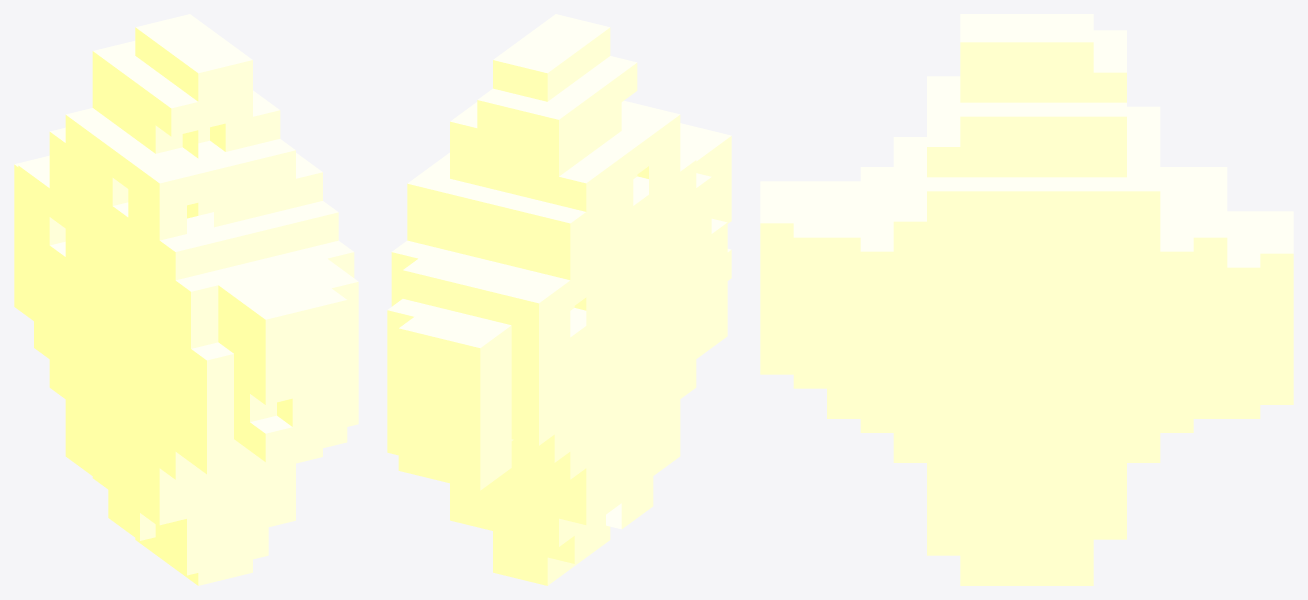
Rendered from yellow-star.gltf.
3 renders of one model, left to right at view 1: azimuth 30°, elevation 25°; view 2: azimuth 150°, elevation 25°; view 3: azimuth 270°, elevation 25°, orthographic. The views are drawn at different scales.
Visible parts, largest first — view 1: 星星-星星眼睛; view 2: 星星-星星眼睛; view 3: 星星-星星眼睛.
Part boxes in pixels (x1,y1,x2,y2): 星星-星星眼睛: (14,14,358,585); 星星-星星眼睛: (387,14,731,585); 星星-星星眼睛: (760,14,1293,585).
Bounding box in the file's own units: 0.7196 × 2.16 × 1.92.
